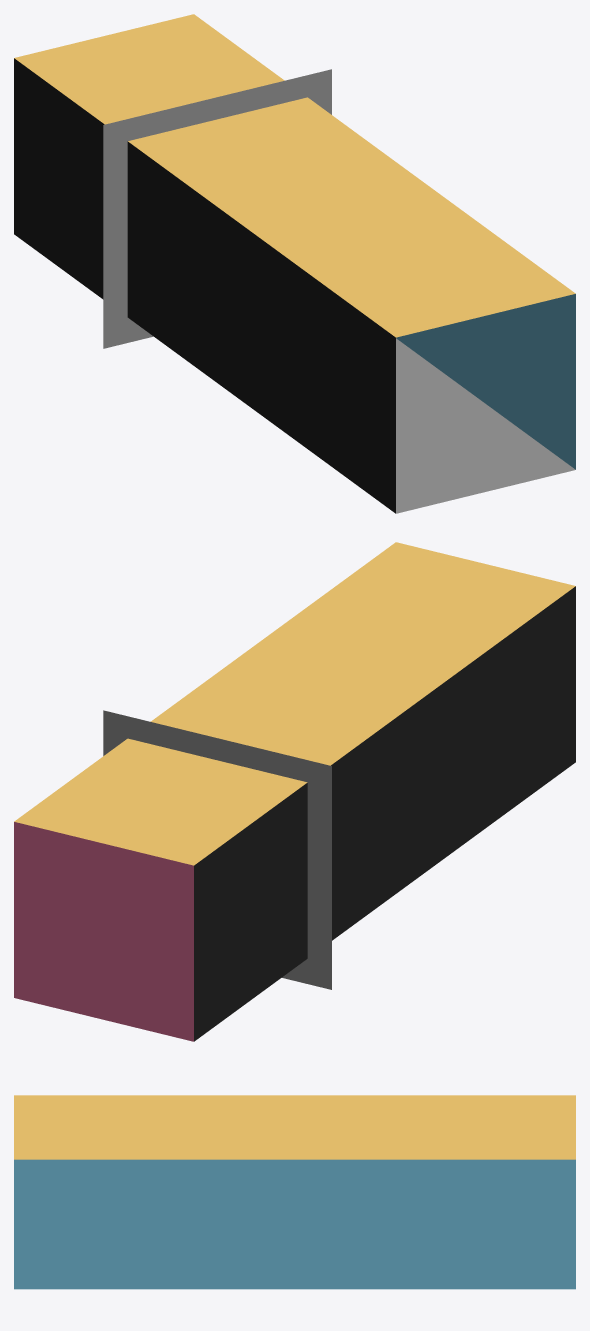
Rendered from room.FBX.
The picture shows the model from 3 angles, top to bottom: view 1: azimuth 30°, elevation 25°; view 2: azimuth 150°, elevation 25°; view 3: azimuth 270°, elevation 25°; orthographic projection. The views are drawn at different scales.
Visible parts, largest first — view 1: Box001; view 2: Box001; view 3: Box001.
Boxes of the visible parts, left/top/right/bottom form: Box001: left=14, top=14, right=575, bottom=513; Box001: left=14, top=542, right=575, bottom=1041; Box001: left=14, top=1095, right=575, bottom=1289.
Size of the model in its own units: 16140 by 15097 by 46676.
